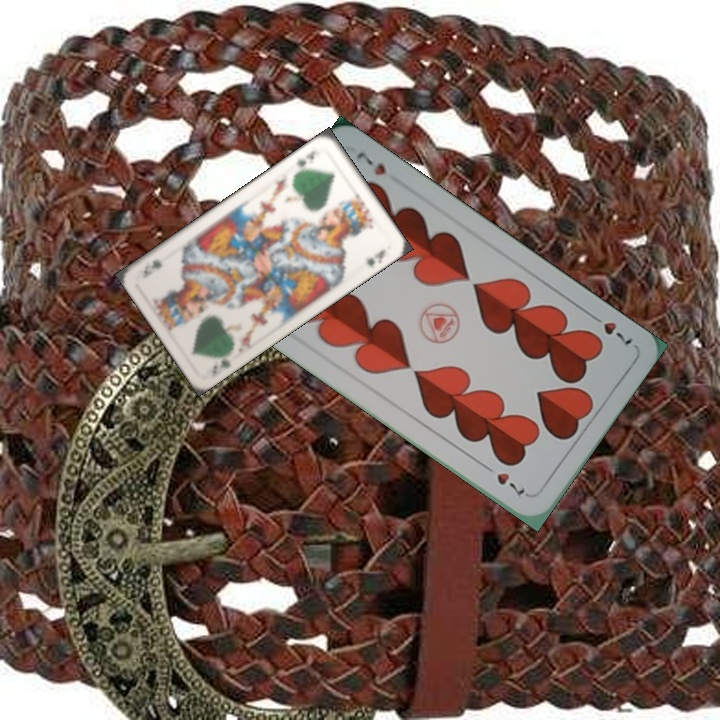GK: (291, 146, 322, 170), (208, 355, 233, 376)
H7: (585, 309, 636, 348)
